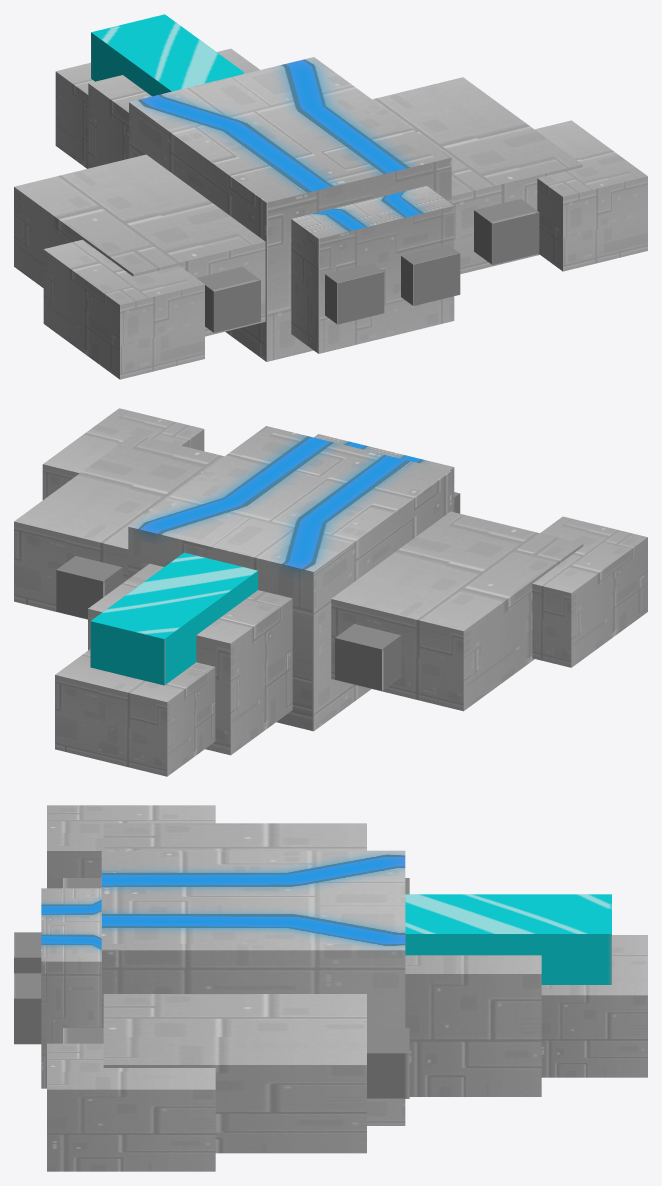
Rendered from PlayerShip.fbx.
3 views of the same model, one above another, from view 1: azimuth 30°, elevation 25°; view 2: azimuth 150°, elevation 25°; view 3: azimuth 270°, elevation 25° (orthographic). The views are drawn at different scales.
Visible parts, largest first — view 1: Ship; view 2: Ship; view 3: Ship.
Part boxes in pixels (x1,y1,x2,y2): Ship: (14, 14, 647, 379); Ship: (14, 408, 647, 776); Ship: (14, 805, 647, 1171).
Bounding box in the file's own units: 2.1 × 0.6039 × 1.97.
Materials: 1 (1 with a texture image).
